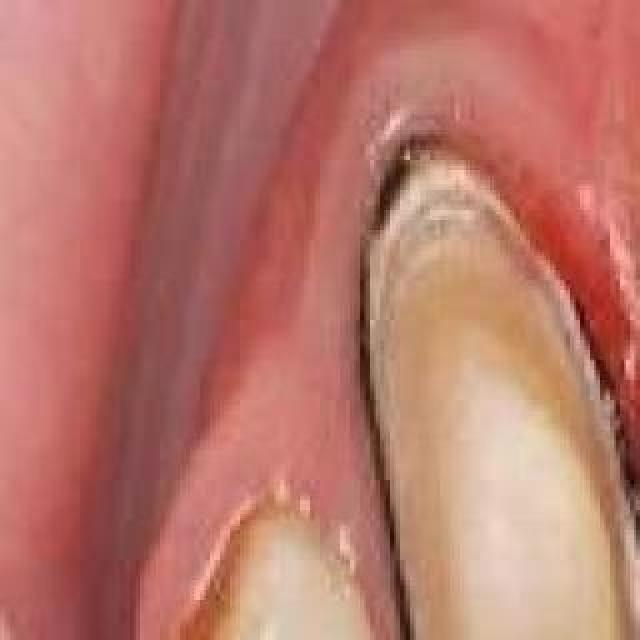stains: (140, 478, 332, 640)
